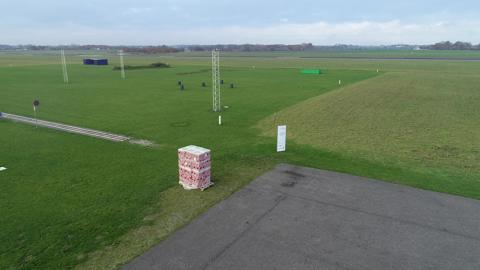RockwoolPallet: (177, 144, 212, 190)
